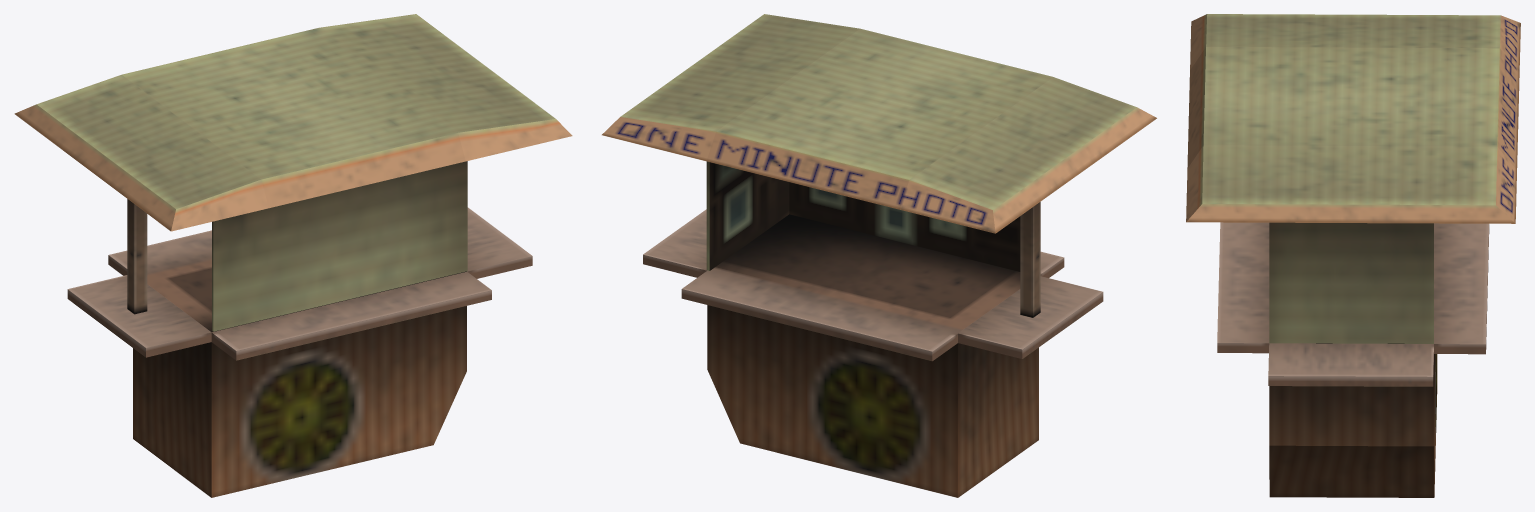
File: Stall02.fbx
The picture shows the model from 3 angles, left to right: view 1: azimuth 30°, elevation 25°; view 2: azimuth 150°, elevation 25°; view 3: azimuth 270°, elevation 25°; orthographic projection. The views are drawn at different scales.
Visible parts, largest first — view 1: objdefault5; view 2: objdefault5; view 3: objdefault5.
Boxes of the visible parts, x1,y1,x2,y2 form: objdefault5: [14, 14, 572, 497]; objdefault5: [602, 14, 1156, 497]; objdefault5: [1186, 14, 1520, 497].
Bounding box in the file's own units: 1.35 × 1.08 × 0.943.
